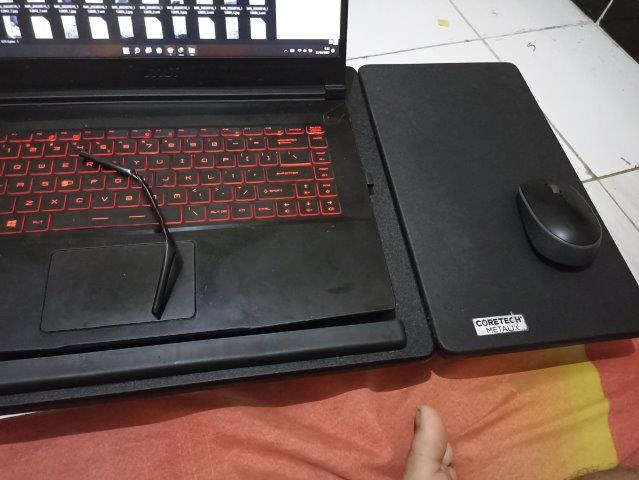sedotan: (80, 151, 175, 318)
